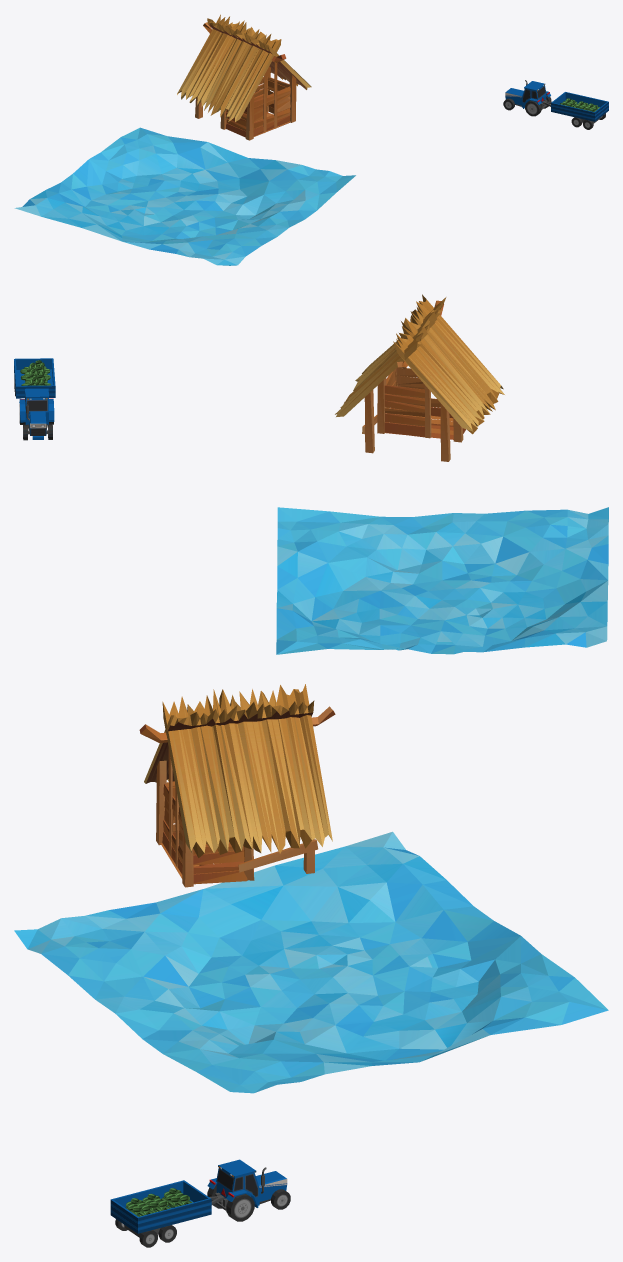
The picture shows the model from 3 angles, top to bottom: view 1: azimuth 30°, elevation 25°; view 2: azimuth 150°, elevation 25°; view 3: azimuth 270°, elevation 25°; orthographic projection. The views are drawn at different scales.
Parts seen in each view (by area): view 1: node_Water01_34238, node_Manmade04_34114, node_SPW_Vehicle_Land_Static_Tractor_Trailer_Color03_34232, node_SPW_Vehicle_Land_Static_Tractor_Color03_34266; view 2: node_Water01_34238, node_Manmade04_34114, node_SPW_Vehicle_Land_Static_Tractor_Color03_34266, node_SPW_Vehicle_Land_Static_Tractor_Trailer_Color03_34232, node_Watermelongroup_-21452; view 3: node_Water01_34238, node_Manmade04_34114, node_SPW_Vehicle_Land_Static_Tractor_Trailer_Color03_34232, node_SPW_Vehicle_Land_Static_Tractor_Color03_34266, node_Watermelongroup_-21452.
Part boxes in pixels (x1=…): node_Water01_34238: x1=14, y1=127, x2=355, y2=265; node_Manmade04_34114: x1=177, y1=14, x2=311, y2=140; node_SPW_Vehicle_Land_Static_Tractor_Trailer_Color03_34232: x1=542, y1=92, x2=608, y2=129; node_SPW_Vehicle_Land_Static_Tractor_Color03_34266: x1=503, y1=80, x2=551, y2=116; node_Water01_34238: x1=276, y1=507, x2=608, y2=654; node_Manmade04_34114: x1=335, y1=294, x2=504, y2=461; node_SPW_Vehicle_Land_Static_Tractor_Color03_34266: x1=19, y1=388, x2=54, y2=440; node_SPW_Vehicle_Land_Static_Tractor_Trailer_Color03_34232: x1=14, y1=358, x2=55, y2=398; node_Watermelongroup_-21452: x1=20, y1=360, x2=50, y2=385; node_Water01_34238: x1=14, y1=831, x2=608, y2=1093; node_Manmade04_34114: x1=139, y1=684, x2=335, y2=887; node_SPW_Vehicle_Land_Static_Tractor_Trailer_Color03_34232: x1=110, y1=1180, x2=224, y2=1247; node_SPW_Vehicle_Land_Static_Tractor_Color03_34266: x1=207, y1=1159, x2=290, y2=1221; node_Watermelongroup_-21452: x1=125, y1=1188, x2=192, y2=1216.
Size of what is drawn, in the model's own units: 20.56 by 7.35 by 11.66.
4 materials, 4 textured.
